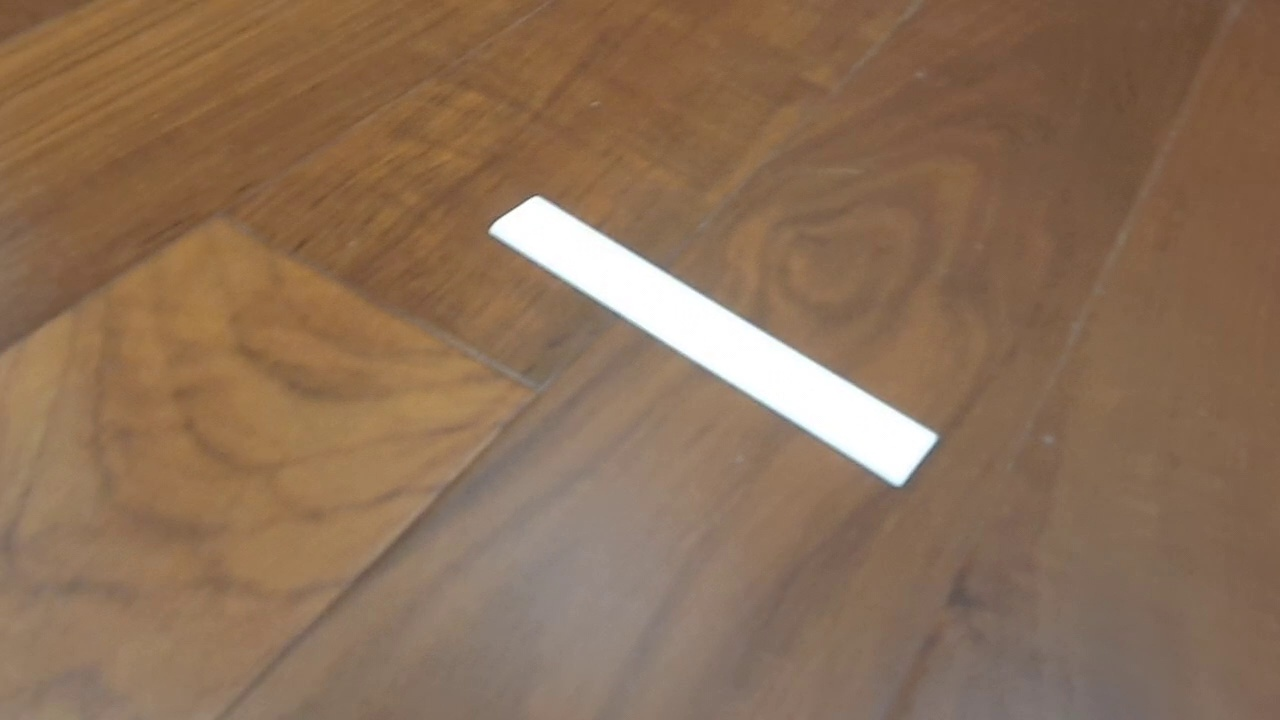ruler: (486, 193, 942, 489)
